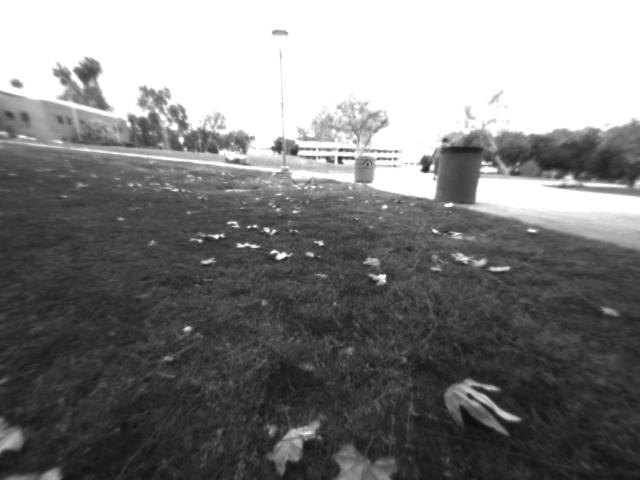trashcan: (437, 146, 481, 204), (355, 151, 376, 183)
